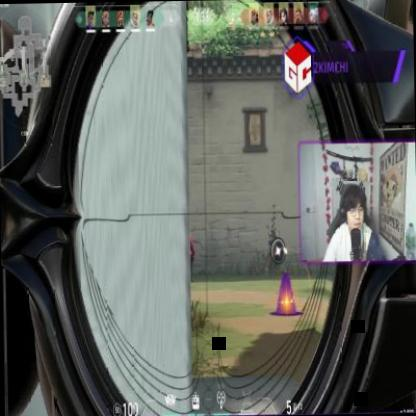enemy: (169, 190, 196, 282), (175, 192, 184, 210)
